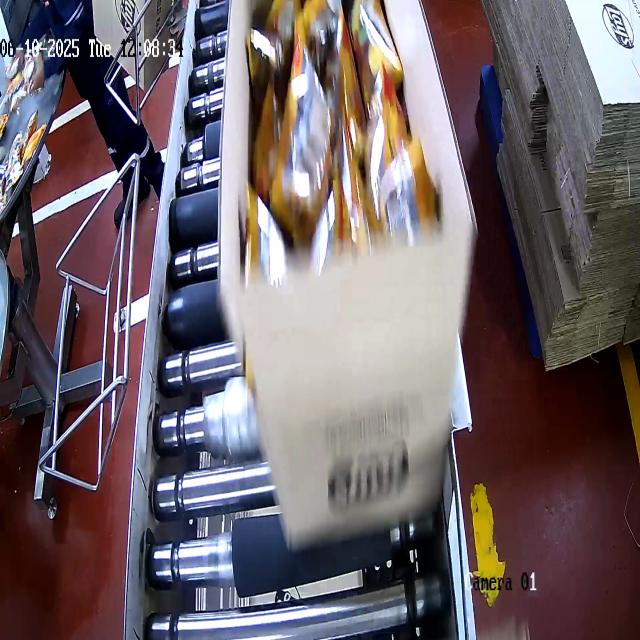FRENCH_CHEESE: (242, 1, 424, 278)
